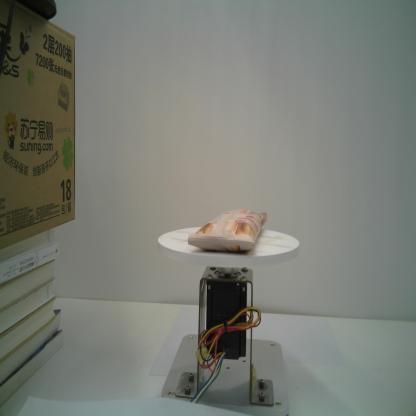Dessert: (183, 207, 268, 255)
